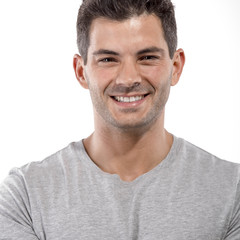young: (63, 2, 187, 129)
